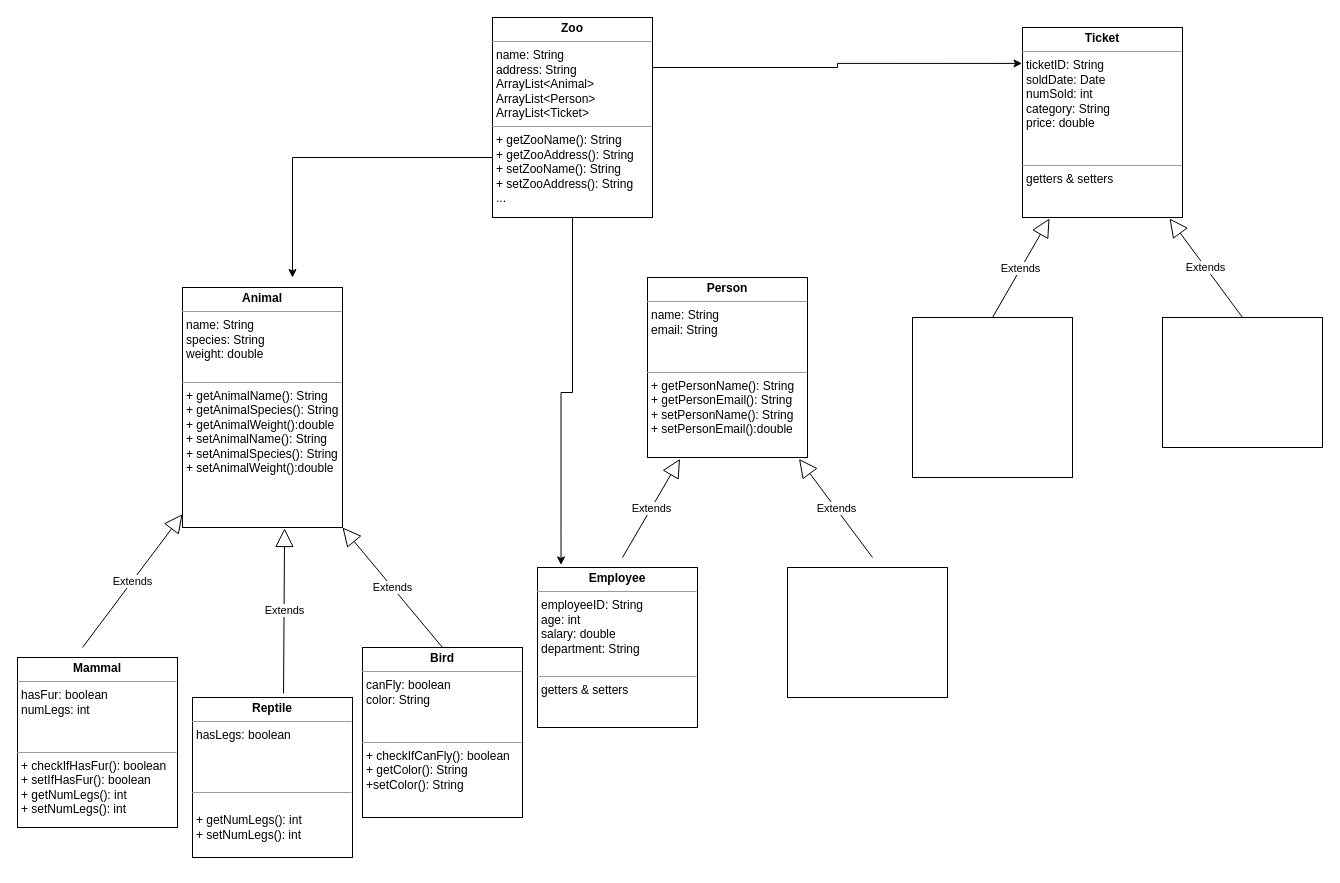
The diagram is 1340 pixels wide and 883 high, and some of its shapes have lost their labels. Here are the shapes that lost their labels. From the top down, the centre of each, then its label:
At (x=992, y=397): "DailyPass expirationDate: Date getters & setters".
At (x=1242, y=382): "AnnualPass startDate: Date endDate: Date getters & setters".
At (x=867, y=632): "Visitor visitorID: String getters & setters".
